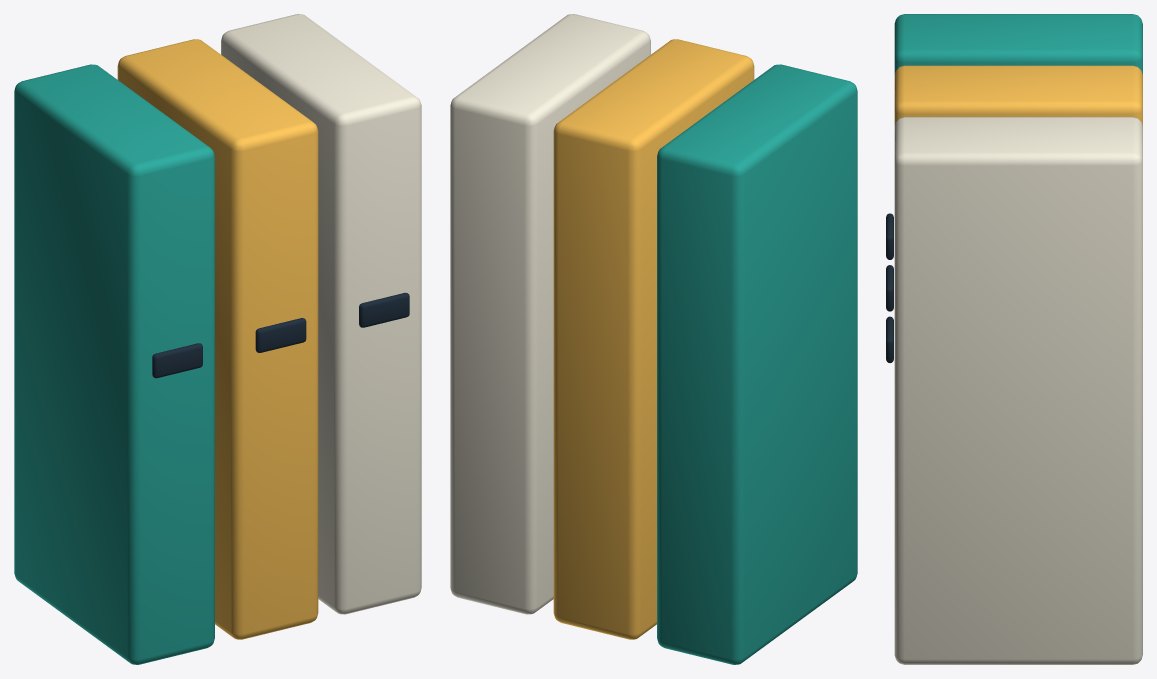
Rendered from archive-landmark.glb.
3 renders of one model, left to right at view 1: azimuth 30°, elevation 25°; view 2: azimuth 150°, elevation 25°; view 3: azimuth 270°, elevation 25°, orthographic. The views are drawn at different scales.
Parts seen in each view (by area): view 1: data book 0, data book 1, data book 2, book title.001, book title, book title.002; view 2: data book 0, data book 1, data book 2; view 3: data book 2, data book 1, data book 0.
Part boxes in pixels (x1=…): data book 0: x1=14, y1=64, x2=214, y2=664; data book 1: x1=117, y1=39, x2=318, y2=639; data book 2: x1=221, y1=14, x2=421, y2=614; book title.001: x1=255, y1=318, x2=306, y2=352; book title: x1=152, y1=343, x2=202, y2=378; book title.002: x1=359, y1=292, x2=409, y2=327; data book 0: x1=657, y1=64, x2=857, y2=664; data book 1: x1=553, y1=39, x2=754, y2=639; data book 2: x1=450, y1=14, x2=650, y2=614; data book 2: x1=894, y1=117, x2=1142, y2=664; data book 1: x1=894, y1=65, x2=1142, y2=126; data book 0: x1=894, y1=14, x2=1142, y2=74.
Bounding box in the file's own units: 1.53 × 2.5 × 1.14.
